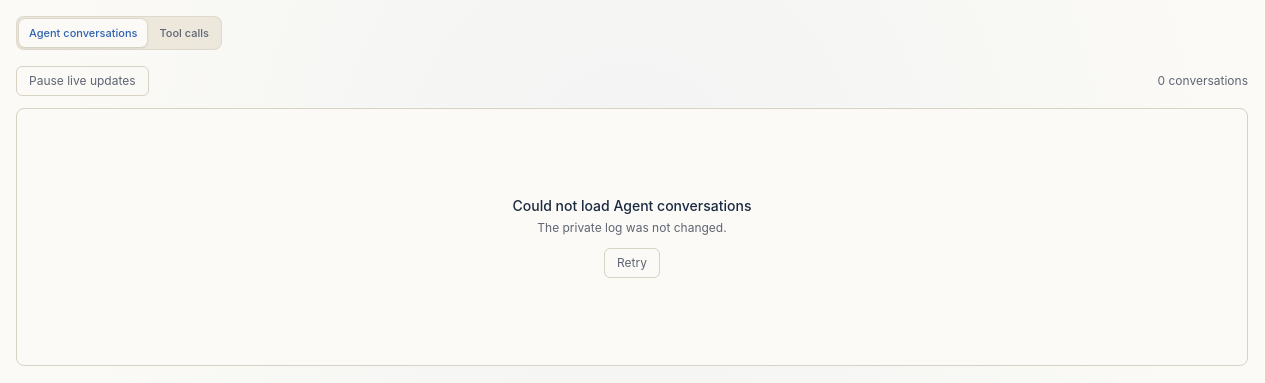
Test: LogsPage Agent conversations › offers a retry when the read-only projection is unavailable
Expected: the text "Could not load Agent conversations" is shown, x1=512 y1=196 x2=751 y2=216
Click the button "Retry".
click(632, 263)  # box x1=604 y1=248 x2=660 y2=278
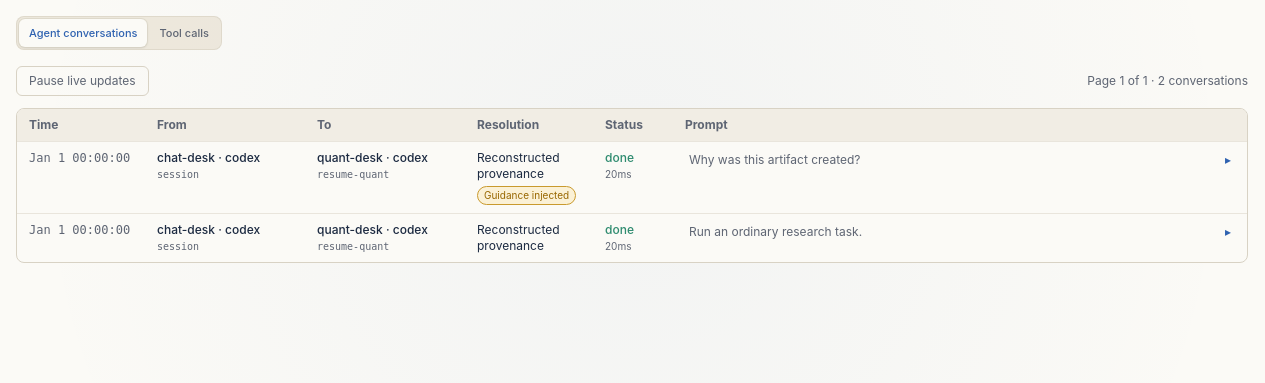
Now the text "Page 1 of 1 · 2 conversations" is shown, box x1=1087 y1=73 x2=1248 y2=89
